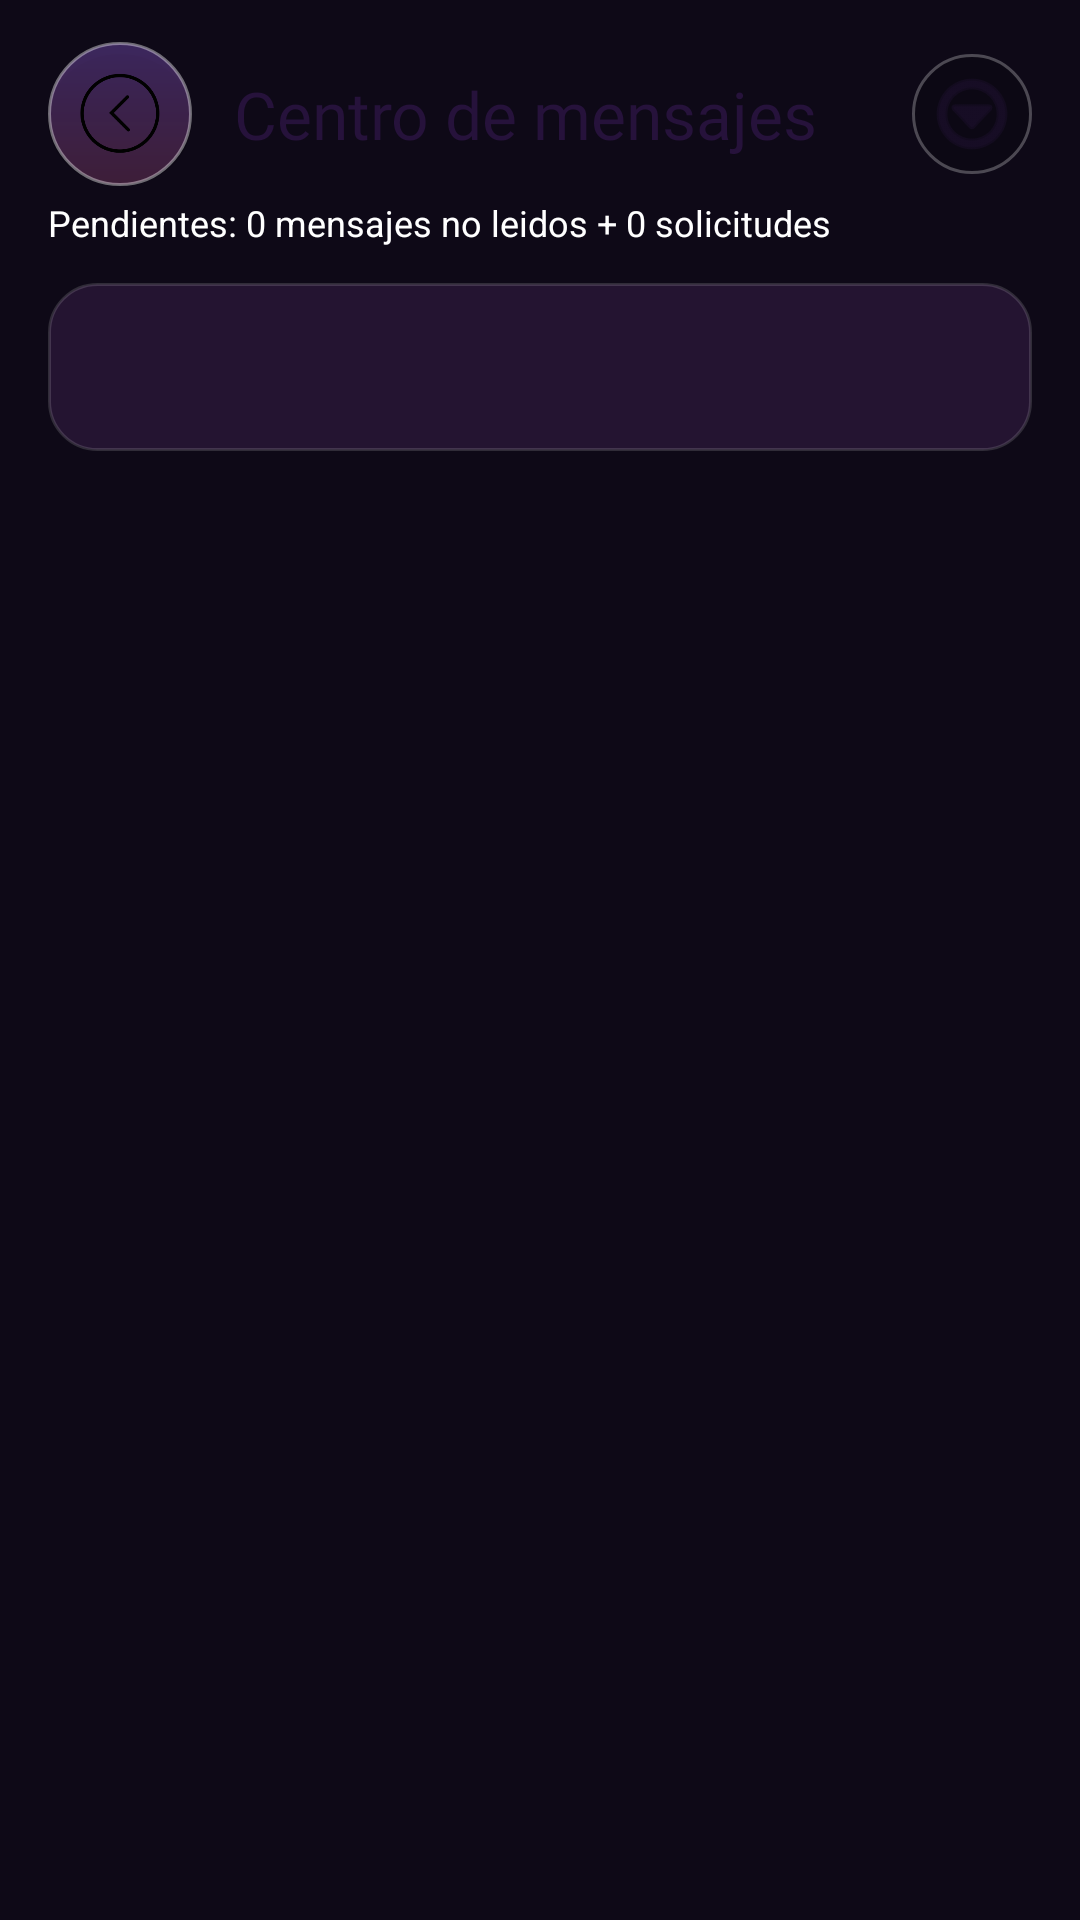

Icon bounding boxes for this 1080px x 1920px phone screenshot, format (left=x1, top=y1, right=x2, bottom=y2):
Regresar: (left=48, top=42, right=192, bottom=186)
